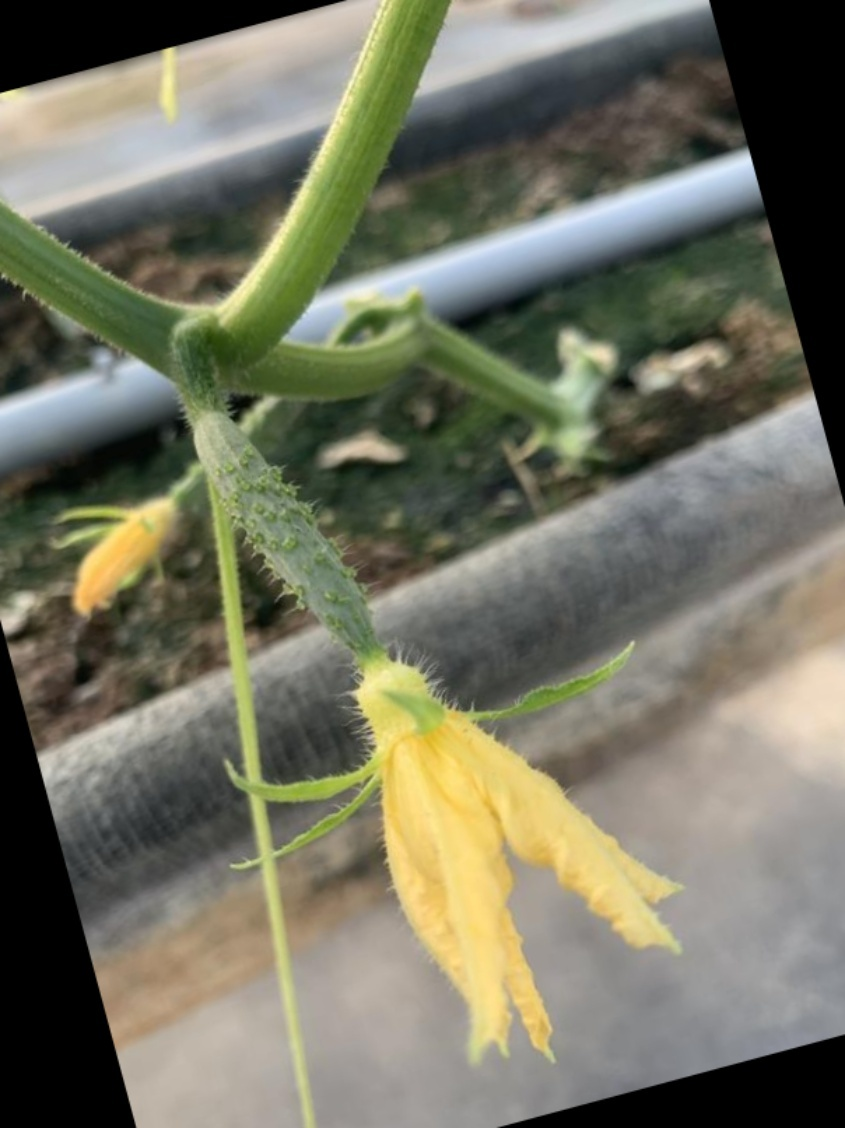bear: (163, 396, 680, 1106)
